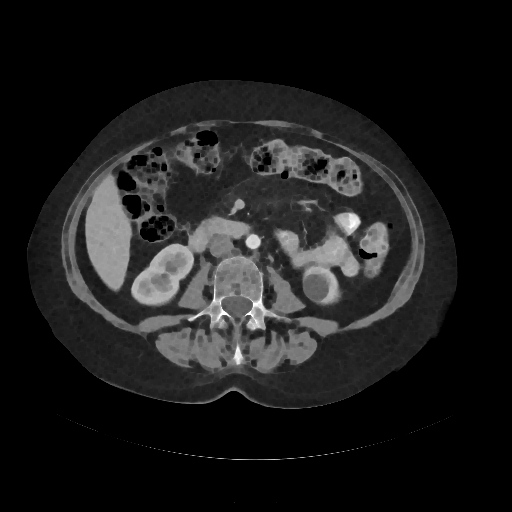Lesion: (301, 270, 331, 303)
